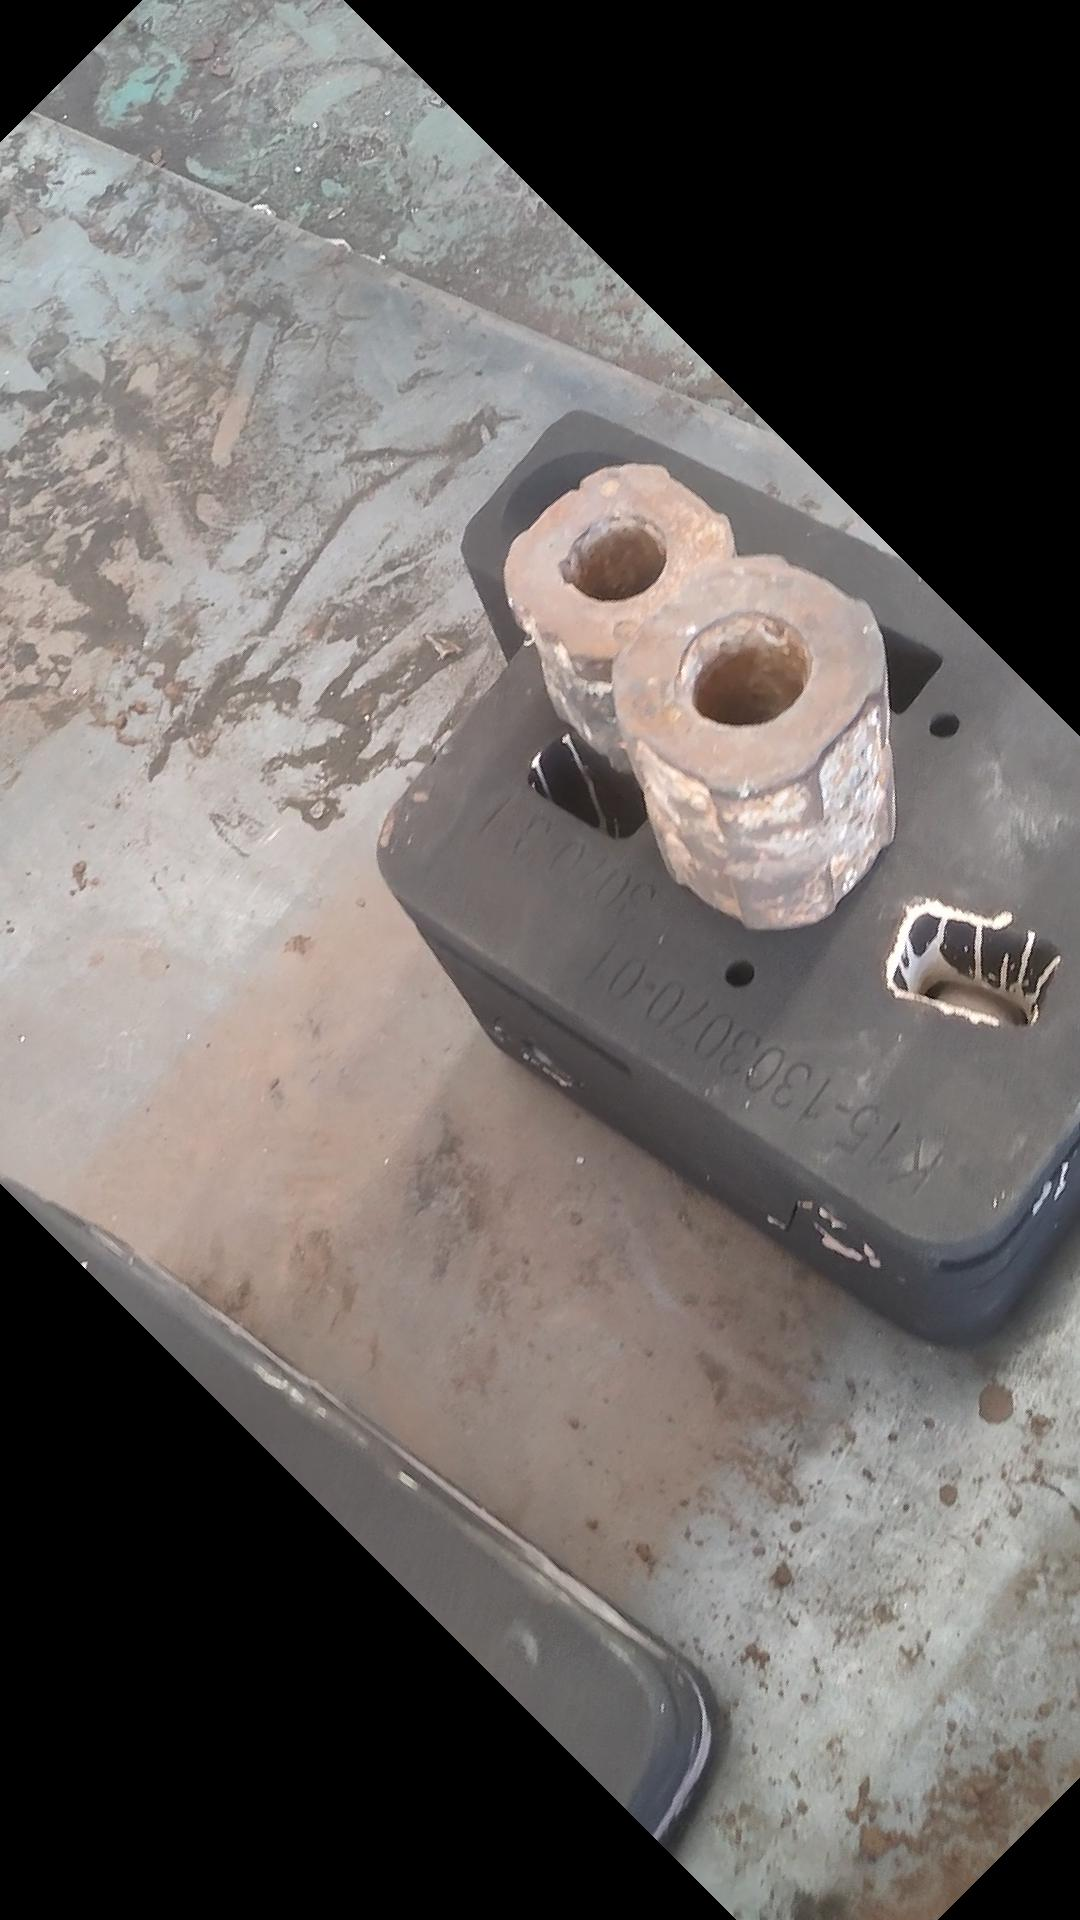pouring hole: (502, 448, 649, 575)
